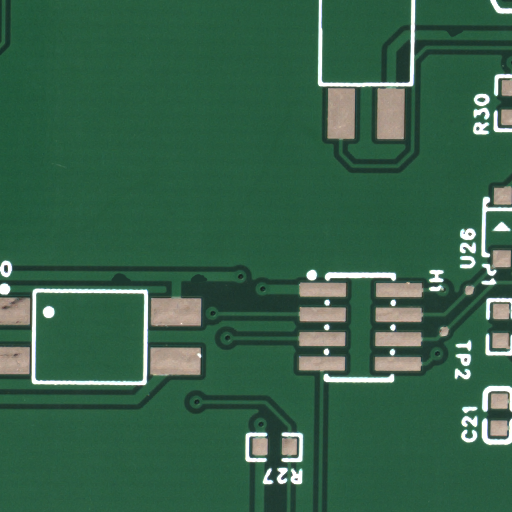Mouse_bite: (121, 278, 142, 289), (455, 33, 476, 43), (197, 277, 215, 287)
